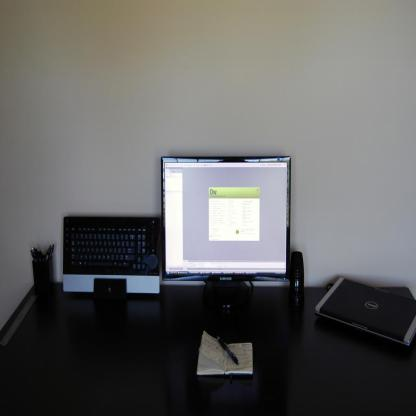board: (313, 275, 416, 350)
